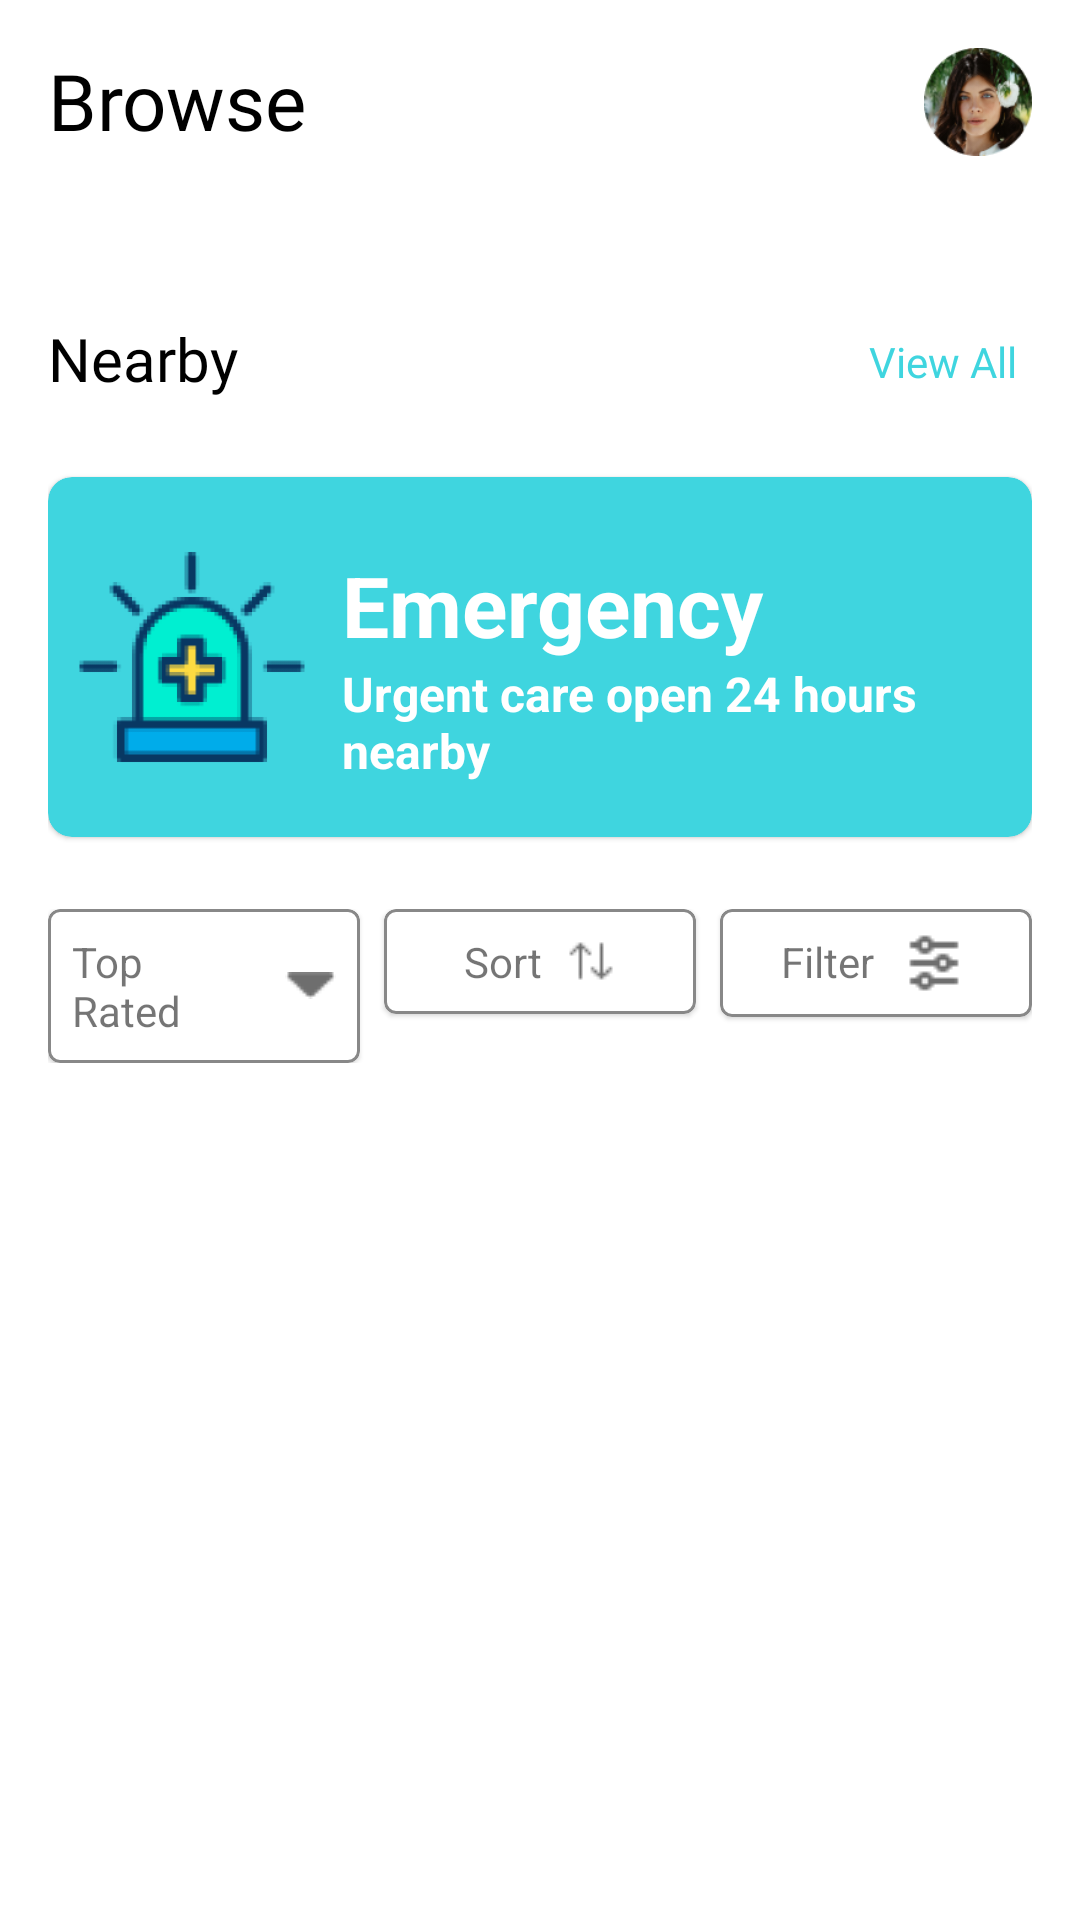

Named icons in this screenshot (1080 × 1920) and their centers, point (x, y):
profile: point (978, 102)
